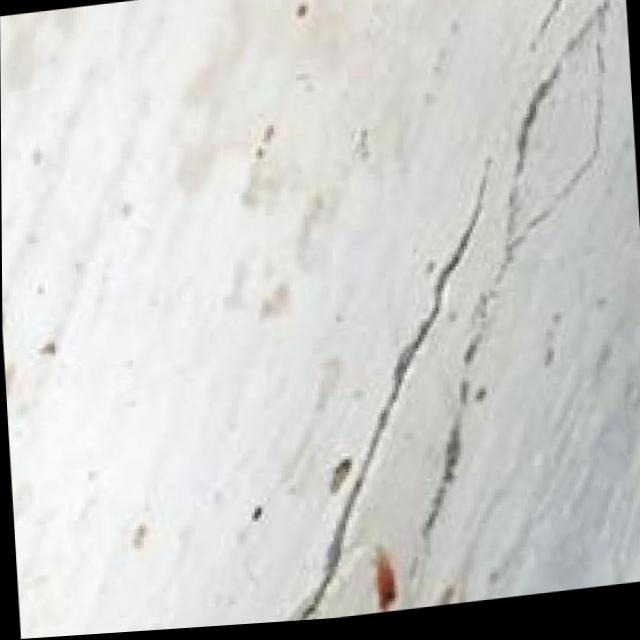Crack: (261, 0, 640, 623)
